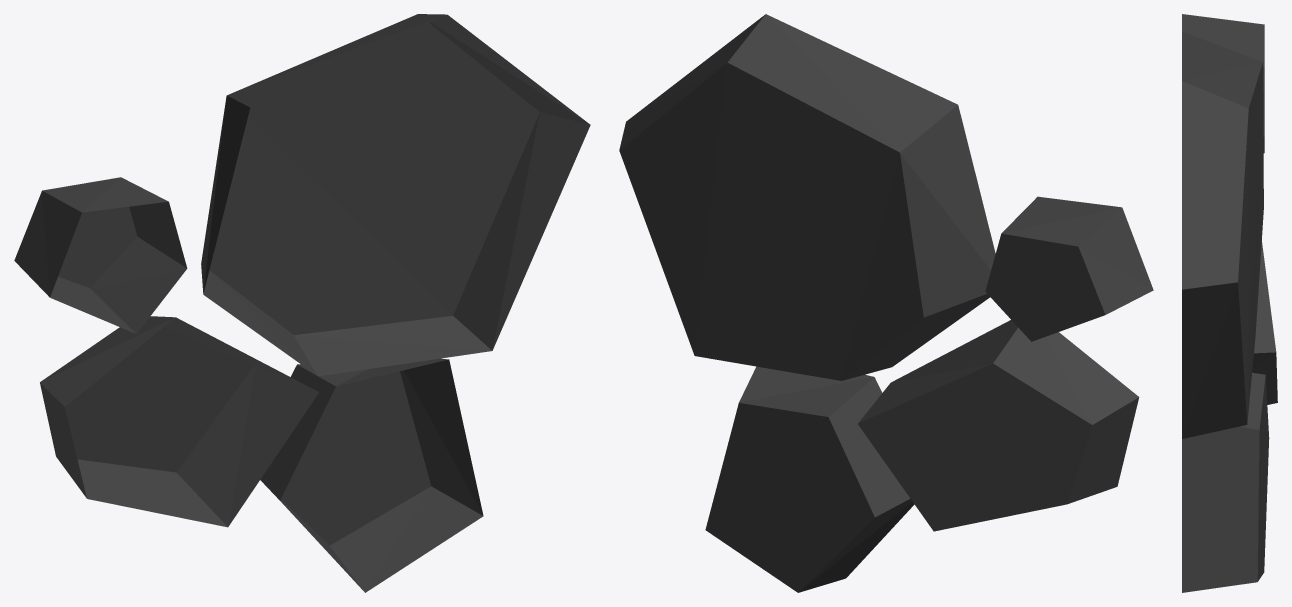
Rendered from StonePatch2.fbx.
3 views of the same model, side by side, from view 1: azimuth 30°, elevation 25°; view 2: azimuth 150°, elevation 25°; view 3: azimuth 270°, elevation 25° (orthographic). The views are drawn at different scales.
Parts seen in each view (by area): view 1: StonePatch2.014; view 2: StonePatch2.014; view 3: StonePatch2.014.
Boxes of the visible parts, x1,y1,x2,y2 form: StonePatch2.014: [14, 14, 590, 592]; StonePatch2.014: [619, 14, 1153, 592]; StonePatch2.014: [1182, 14, 1277, 592].
Bounding box in the file's own units: 160 × 25.25 × 157.
